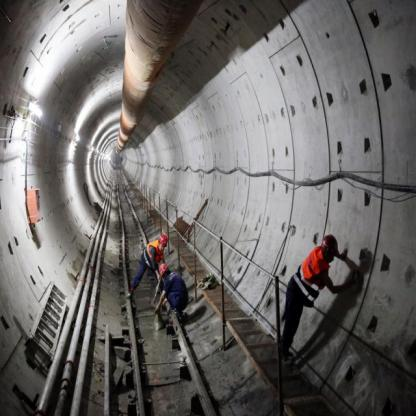person: (277, 232, 348, 368), (125, 227, 169, 295), (152, 262, 191, 320)
red-helm: (319, 231, 340, 257), (156, 260, 170, 281), (157, 231, 168, 248)
vest-helm: (291, 244, 330, 308), (140, 237, 164, 270)
